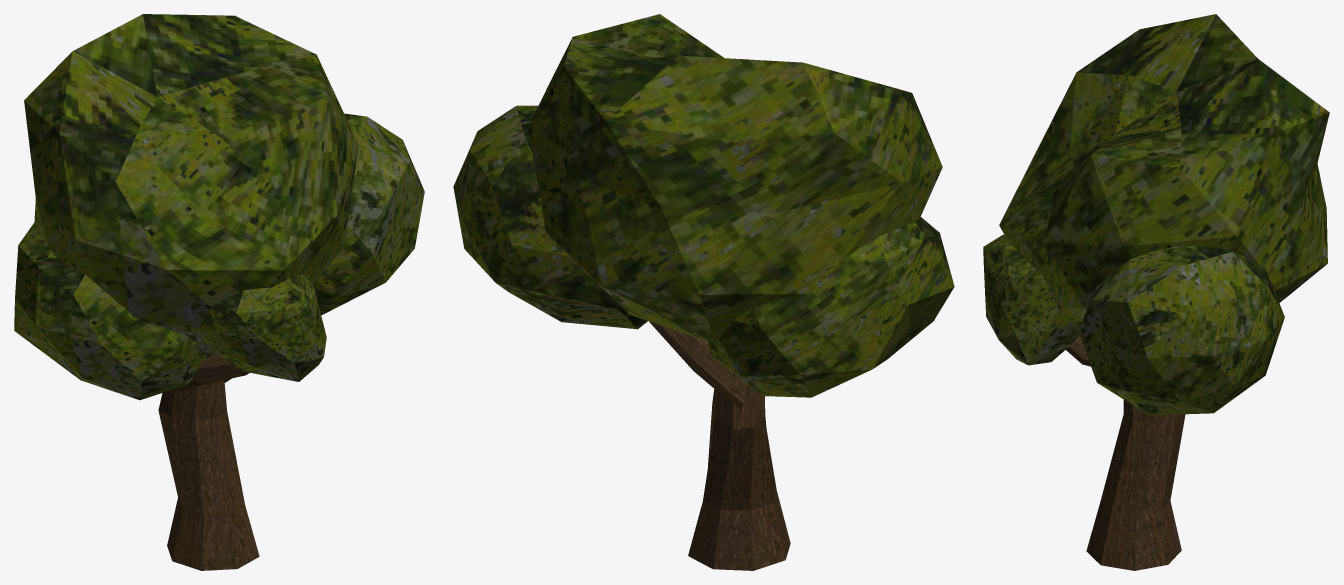
Rendered from tree2.fbx.
3 views of the same model, side by side, from view 1: azimuth 30°, elevation 25°; view 2: azimuth 150°, elevation 25°; view 3: azimuth 270°, elevation 25° (orthographic). The views are drawn at different scales.
Visible parts, largest first — view 1: Icosphere.001; view 2: Icosphere.001; view 3: Icosphere.001.
Part boxes in pixels (x1=…): Icosphere.001: x1=14, y1=14, x2=424, y2=570; Icosphere.001: x1=453, y1=14, x2=954, y2=570; Icosphere.001: x1=983, y1=14, x2=1329, y2=570.
Bounding box in the file's own units: 966 × 1129 × 725.
